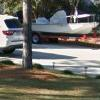Boat: (28, 12, 99, 53)
